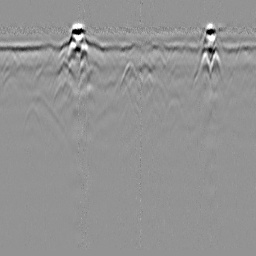cavity: (118, 60, 140, 89)
